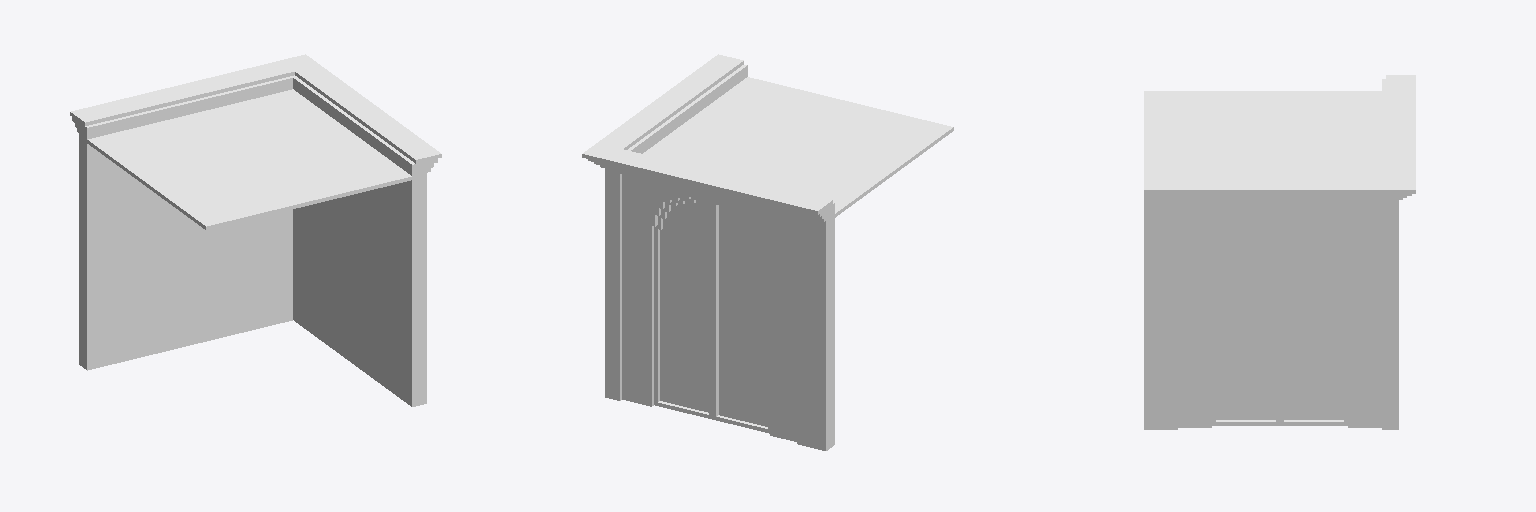
File: old_brick_peach_wall_t_corner.obj
The picture shows the model from 3 angles: view 1: azimuth 30°, elevation 25°; view 2: azimuth 150°, elevation 25°; view 3: azimuth 270°, elevation 25°; orthographic projection.
Bounding box in the file's own units: 64 × 64 × 64.